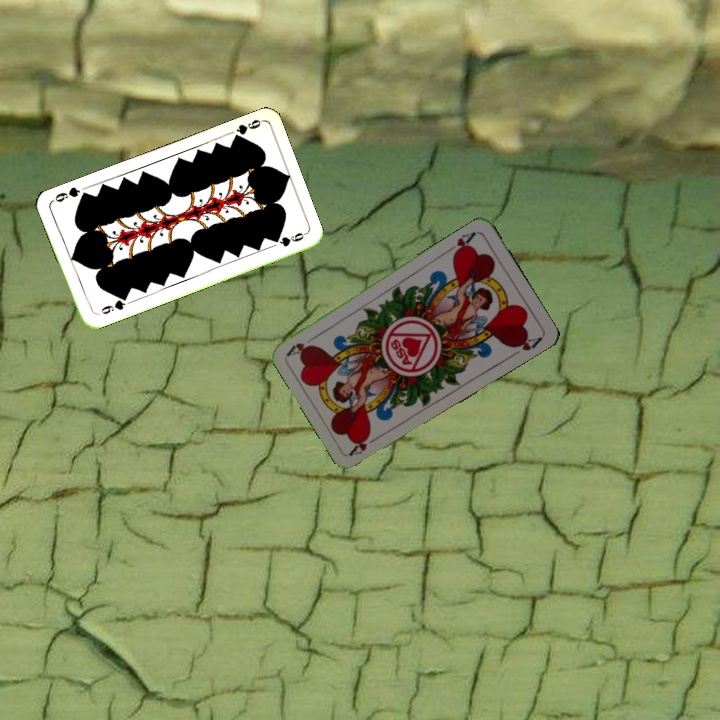G9: (229, 115, 265, 144), (97, 292, 130, 317)
HA: (443, 228, 479, 260), (346, 429, 383, 458)
